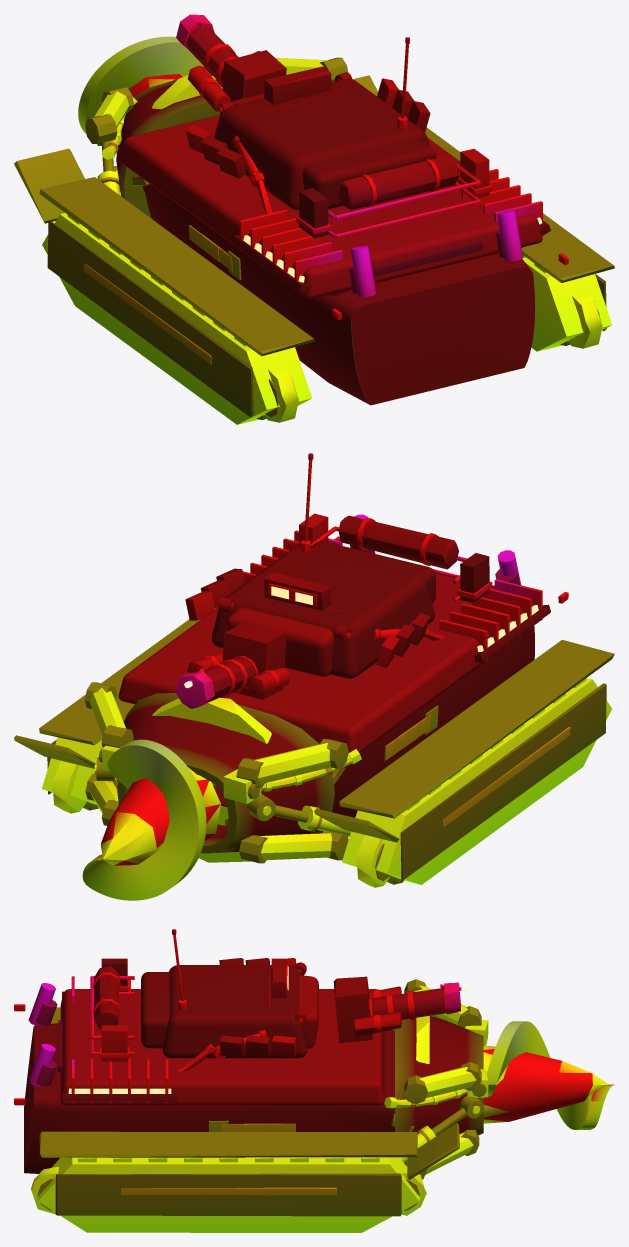
Rendered from SubterraneanMole.fbx.
The picture shows the model from 3 angles, top to bottom: view 1: azimuth 30°, elevation 25°; view 2: azimuth 150°, elevation 25°; view 3: azimuth 270°, elevation 25°; orthographic projection. The views are drawn at different scales.
Parts seen in each view (by area): view 1: SubterraneanMole_SubterraneanMole_PrimaryArmor, SubterraneanMole_SubterraneanMole_LightArmor, SubterraneanMole_SubterraneanMole_Gunmetal, SubterraneanMole_SubterraneanMole_Tread, SubterraneanMole_SubterraneanMole_Warning, SubterraneanMoleDrill_HelicalFlight_A, SubterraneanMole_SubterraneanMole_WheelRim; view 2: SubterraneanMole_SubterraneanMole_LightArmor, SubterraneanMole_SubterraneanMole_PrimaryArmor, SubterraneanMole_SubterraneanMole_Gunmetal, SubterraneanMole_SubterraneanMole_Tread, SubterraneanMoleDrill_HelicalFlight_A, SubterraneanMole_SubterraneanMole_Warning, SubterraneanMole_SubterraneanMole_WheelRim, SubterraneanMole_SubterraneanMole_Emissive; view 3: SubterraneanMole_SubterraneanMole_PrimaryArmor, SubterraneanMole_SubterraneanMole_LightArmor, SubterraneanMole_SubterraneanMole_Gunmetal, SubterraneanMole_SubterraneanMole_Tread, SubterraneanMole_SubterraneanMole_Warning, SubterraneanMoleDrill_HelicalFlight_A, SubterraneanMole_SubterraneanMole_WheelRim, SubterraneanMole_SubterraneanMole_Emissive.
Boxes of the visible parts, x1,y1,x2,y2 form: SubterraneanMole_SubterraneanMole_PrimaryArmor: [47, 78, 606, 417]; SubterraneanMole_SubterraneanMole_LightArmor: [14, 25, 614, 356]; SubterraneanMole_SubterraneanMole_Gunmetal: [94, 14, 602, 422]; SubterraneanMole_SubterraneanMole_Tread: [42, 79, 612, 424]; SubterraneanMole_SubterraneanMole_Warning: [83, 37, 489, 364]; SubterraneanMoleDrill_HelicalFlight_A: [78, 36, 203, 133]; SubterraneanMole_SubterraneanMole_WheelRim: [97, 72, 599, 419]; SubterraneanMole_SubterraneanMole_LightArmor: [14, 515, 614, 863]; SubterraneanMole_SubterraneanMole_PrimaryArmor: [47, 541, 606, 880]; SubterraneanMole_SubterraneanMole_Gunmetal: [52, 460, 568, 887]; SubterraneanMole_SubterraneanMole_Tread: [42, 517, 611, 884]; SubterraneanMoleDrill_HelicalFlight_A: [82, 739, 206, 900]; SubterraneanMole_SubterraneanMole_Warning: [106, 453, 570, 831]; SubterraneanMole_SubterraneanMole_WheelRim: [52, 597, 403, 884]; SubterraneanMole_SubterraneanMole_Emissive: [184, 586, 538, 688]; SubterraneanMole_SubterraneanMole_PrimaryArmor: [24, 958, 483, 1216]; SubterraneanMole_SubterraneanMole_LightArmor: [36, 958, 481, 1179]; SubterraneanMole_SubterraneanMole_Gunmetal: [14, 935, 608, 1215]; SubterraneanMole_SubterraneanMole_Tread: [37, 969, 480, 1232]; SubterraneanMole_SubterraneanMole_Warning: [101, 929, 429, 1195]; SubterraneanMoleDrill_HelicalFlight_A: [486, 1021, 614, 1129]; SubterraneanMole_SubterraneanMole_WheelRim: [37, 962, 486, 1210]; SubterraneanMole_SubterraneanMole_Emissive: [68, 966, 467, 1093].
Size of the model in its own units: 283 by 222 by 481.
